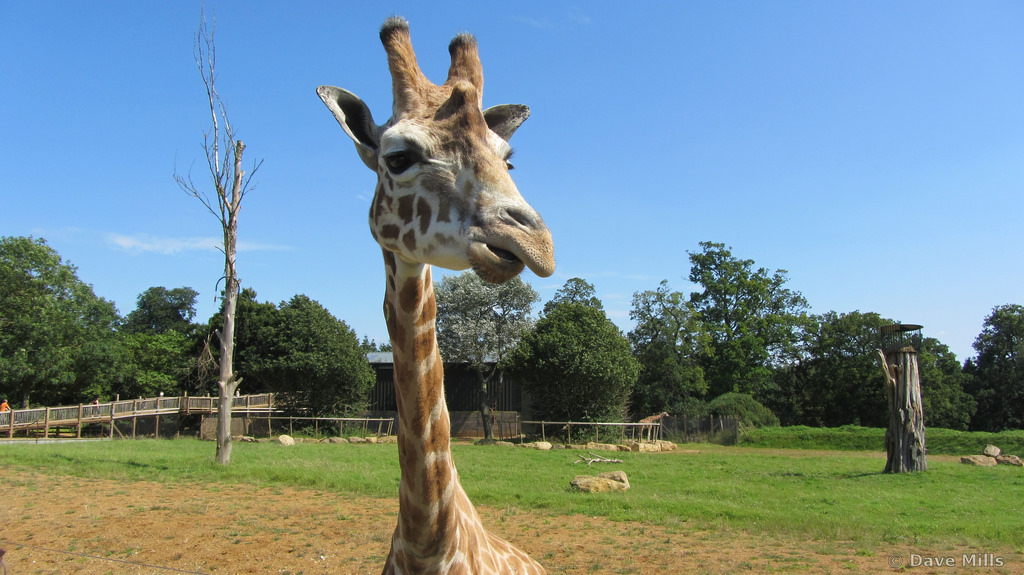giraffe: (296, 10, 571, 572)
